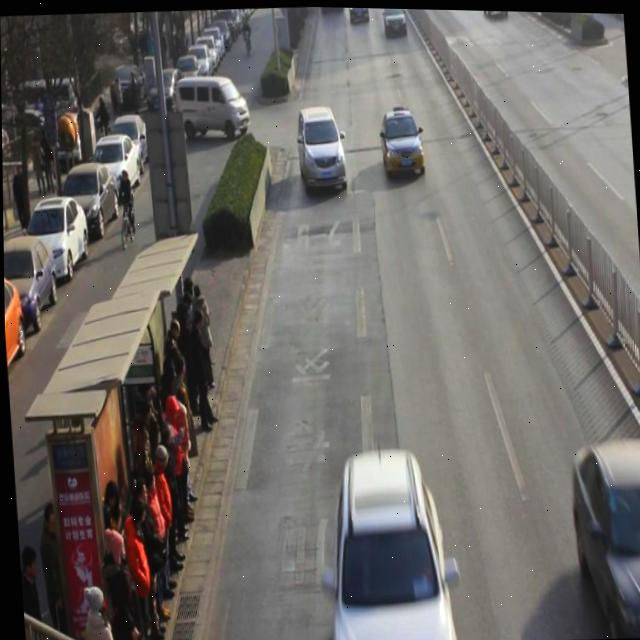car: (317, 443, 455, 640), (568, 436, 640, 638), (296, 104, 349, 196), (378, 106, 425, 177), (381, 7, 407, 37), (482, 8, 508, 18)
